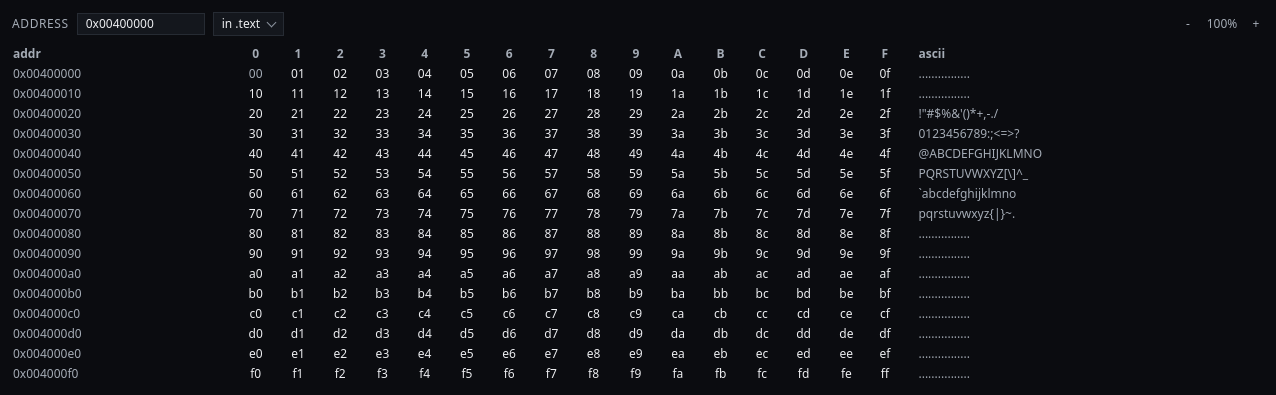
Test: MemoryPanel region label › says unmapped between bands
This screenshot has width=1276, height=395.
// The gap between the heap's end and the stack floor.
Replace the text in the field named "memory base address" with "0x00a00000" at (141, 24), box [77, 13, 205, 35]
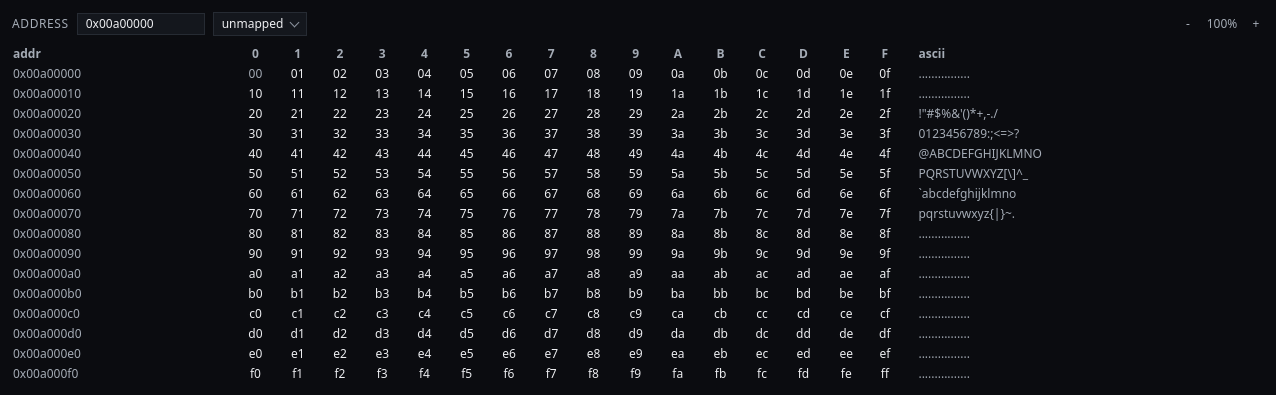
Expected: the dropdown named "jump to section" reads "unmapped", [213, 12, 307, 36]
